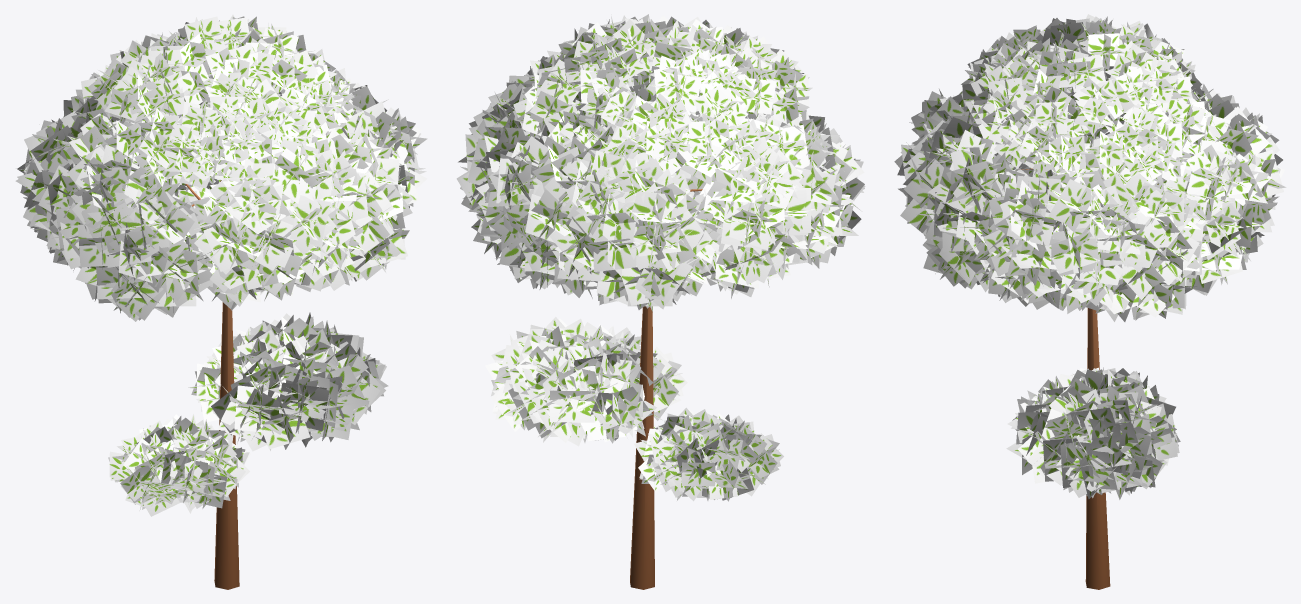
File: tree2_3.fbx
The picture shows the model from 3 angles, left to right: view 1: azimuth 30°, elevation 25°; view 2: azimuth 150°, elevation 25°; view 3: azimuth 270°, elevation 25°; orthographic projection. The views are drawn at different scales.
Parts seen in each view (by area): view 1: tree2_3; view 2: tree2_3; view 3: tree2_3.
Part boxes in pixels (<box>): tree2_3: <box>15,14,427,589</box>; tree2_3: <box>456,14,865,589</box>; tree2_3: <box>894,14,1286,589</box>.
Bounding box in the file's own units: 499 × 735 × 483.
